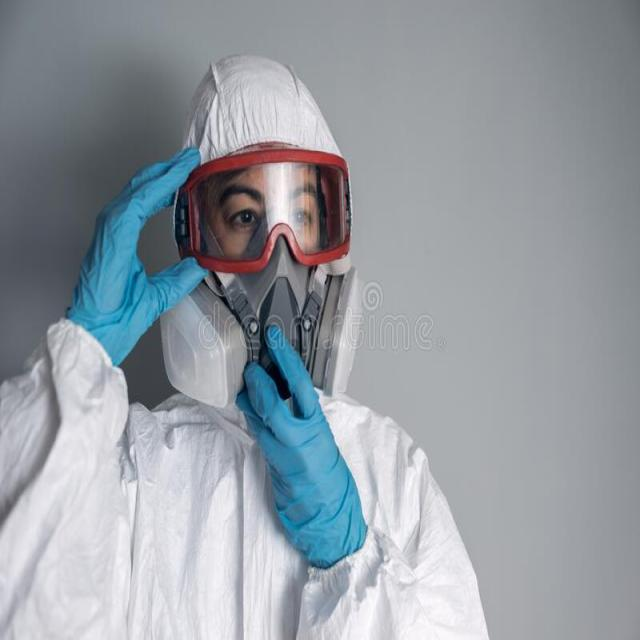Gloves: (63, 142, 219, 372), (231, 331, 380, 566)
